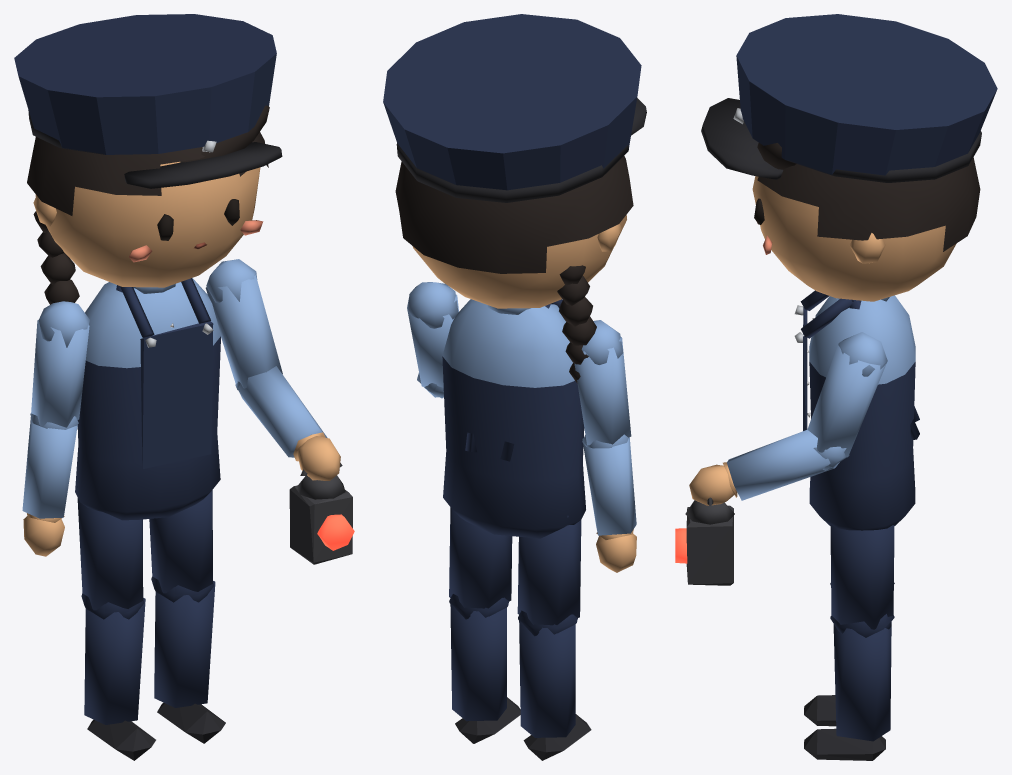
File: era2_rail_worker.glb
3 views of the same model, side by side, from view 1: azimuth 30°, elevation 25°; view 2: azimuth 150°, elevation 25°; view 3: azimuth 270°, elevation 25° (orthographic).
Visible parts, largest first — view 1: head, body, shin_R, shin_L, arm_R, leg_R, arm_L, forearm_R, forearm_L, leg_L, prop_lantern; view 2: head, body, shin_R, shin_L, leg_R, arm_R, forearm_R, leg_L, arm_L; view 3: head, body, shin_L, leg_L, arm_L, forearm_L, prop_lantern, shin_R.
Boxes of the visible parts, bbox=[...] form: head: bbox=[14, 14, 282, 304]; body: bbox=[75, 278, 220, 520]; shin_R: bbox=[82, 593, 155, 760]; shin_L: bbox=[151, 576, 225, 743]; arm_R: bbox=[30, 301, 89, 429]; leg_R: bbox=[77, 486, 144, 619]; arm_L: bbox=[205, 259, 282, 390]; forearm_R: bbox=[22, 417, 77, 556]; forearm_L: bbox=[237, 366, 340, 480]; leg_L: bbox=[149, 490, 213, 602]; prop_lantern: bbox=[289, 463, 354, 564]; head: bbox=[383, 14, 646, 383]; body: bbox=[442, 299, 585, 538]; shin_R: bbox=[518, 610, 591, 760]; shin_L: bbox=[449, 594, 520, 743]; leg_R: bbox=[517, 516, 581, 634]; arm_R: bbox=[574, 320, 631, 448]; forearm_R: bbox=[582, 437, 636, 572]; leg_L: bbox=[449, 507, 512, 617]; arm_L: bbox=[407, 282, 458, 398]; head: bbox=[701, 14, 997, 301]; body: bbox=[794, 290, 919, 530]; shin_L: bbox=[804, 614, 891, 760]; leg_L: bbox=[830, 524, 894, 637]; arm_L: bbox=[807, 332, 887, 470]; forearm_L: bbox=[689, 429, 846, 505]; prop_lantern: bbox=[675, 497, 734, 585]; shin_R: bbox=[804, 584, 836, 726].
Size of the model in its own units: 0.5545 by 1.52 by 0.6462.
